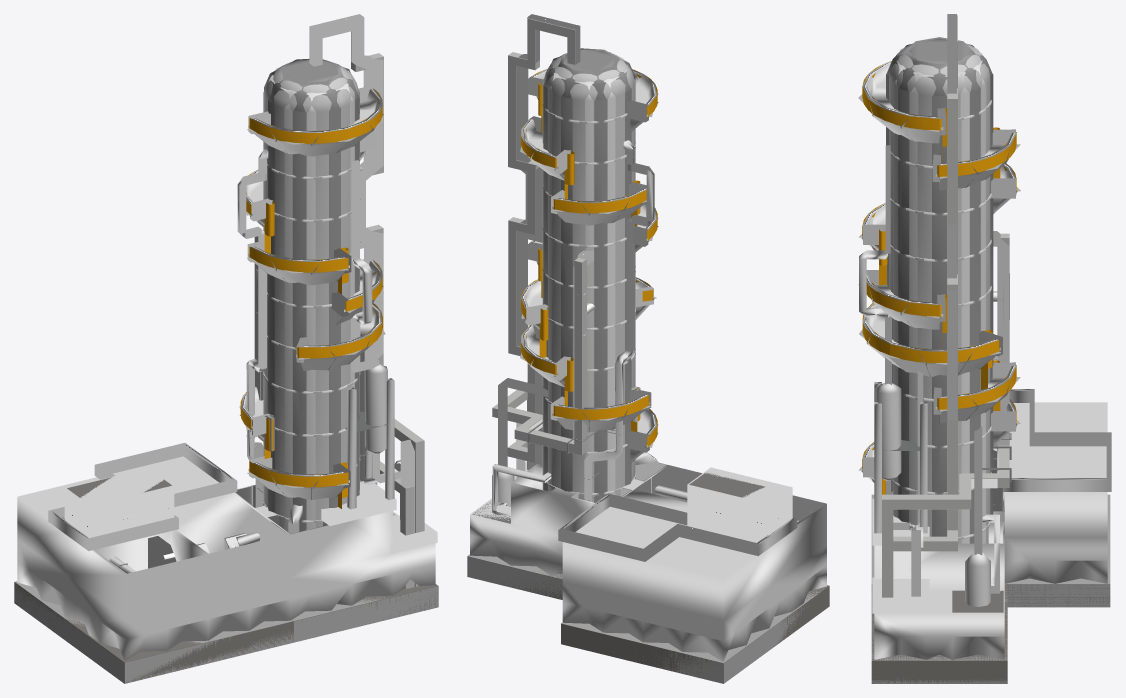
The model's file is s_oil_ref_unit2_distill.dae.
3 renders of one model, left to right at view 1: azimuth 30°, elevation 25°; view 2: azimuth 150°, elevation 25°; view 3: azimuth 270°, elevation 25°, orthographic. The views are drawn at different scales.
Visible parts, largest first — view 1: Colmesh_s_oil_ref_mockup_unit2_distill-1, s_oil_ref_mockup_unit2_distill_L4500, s_oil_ref_mockup_unit2_distill_L120, s_oil_ref_mockup_unit2_distill_L1800, s_oil_ref_mockup_unit2_distill_L300, s_oil_ref_mockup_unit2_distill_L500; view 2: Colmesh_s_oil_ref_mockup_unit2_distill-1, s_oil_ref_mockup_unit2_distill_L4500, s_oil_ref_mockup_unit2_distill_L120, s_oil_ref_mockup_unit2_distill_L1800, s_oil_ref_mockup_unit2_distill_L300, s_oil_ref_mockup_unit2_distill_L500; view 3: Colmesh_s_oil_ref_mockup_unit2_distill-1, s_oil_ref_mockup_unit2_distill_L4500, s_oil_ref_mockup_unit2_distill_L120, s_oil_ref_mockup_unit2_distill_L300, s_oil_ref_mockup_unit2_distill_L1800, s_oil_ref_mockup_unit2_distill_L500.
Part boxes in pixels (box(x1,y1,x2,y2)): Colmesh_s_oil_ref_mockup_unit2_distill-1: box(17, 14, 437, 660); s_oil_ref_mockup_unit2_distill_L4500: box(14, 63, 438, 683); s_oil_ref_mockup_unit2_distill_L120: box(67, 31, 424, 589); s_oil_ref_mockup_unit2_distill_L1800: box(14, 120, 438, 683); s_oil_ref_mockup_unit2_distill_L300: box(239, 60, 385, 509); s_oil_ref_mockup_unit2_distill_L500: box(240, 98, 383, 519); Colmesh_s_oil_ref_mockup_unit2_distill-1: box(470, 14, 826, 661); s_oil_ref_mockup_unit2_distill_L4500: box(467, 53, 819, 683); s_oil_ref_mockup_unit2_distill_L120: box(472, 18, 765, 523); s_oil_ref_mockup_unit2_distill_L1800: box(467, 82, 829, 683); s_oil_ref_mockup_unit2_distill_L300: box(520, 49, 658, 502); s_oil_ref_mockup_unit2_distill_L500: box(520, 74, 658, 498); Colmesh_s_oil_ref_mockup_unit2_distill-1: box(859, 14, 1111, 659); s_oil_ref_mockup_unit2_distill_L4500: box(862, 44, 1110, 683); s_oil_ref_mockup_unit2_distill_L120: box(882, 15, 1009, 612); s_oil_ref_mockup_unit2_distill_L300: box(858, 38, 1020, 543); s_oil_ref_mockup_unit2_distill_L1800: box(862, 87, 1110, 683); s_oil_ref_mockup_unit2_distill_L500: box(861, 73, 1017, 543).
Bounding box in the file's own units: 30.71 × 19.75 × 53.48.
